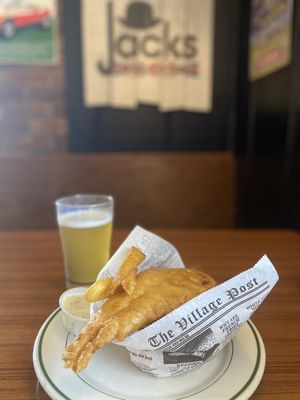pizza: (54, 194, 115, 288)
